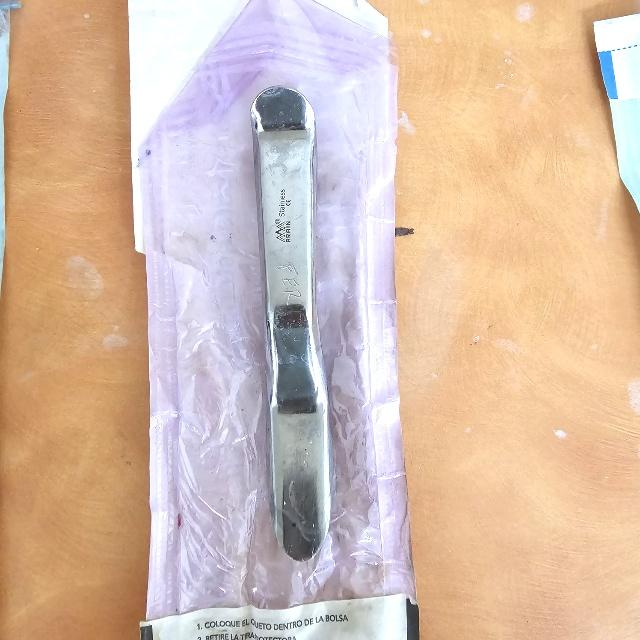separador: (252, 87, 331, 563)
